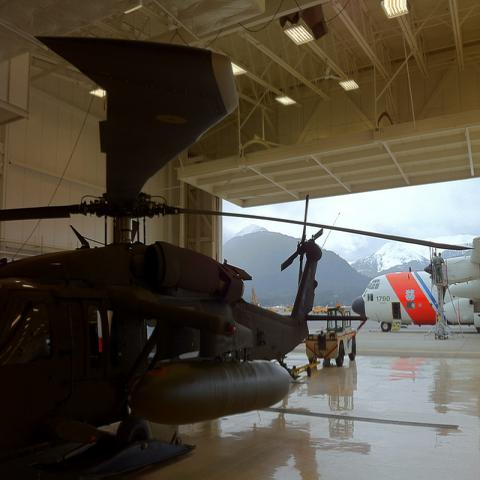truck: (306, 304, 358, 367)
